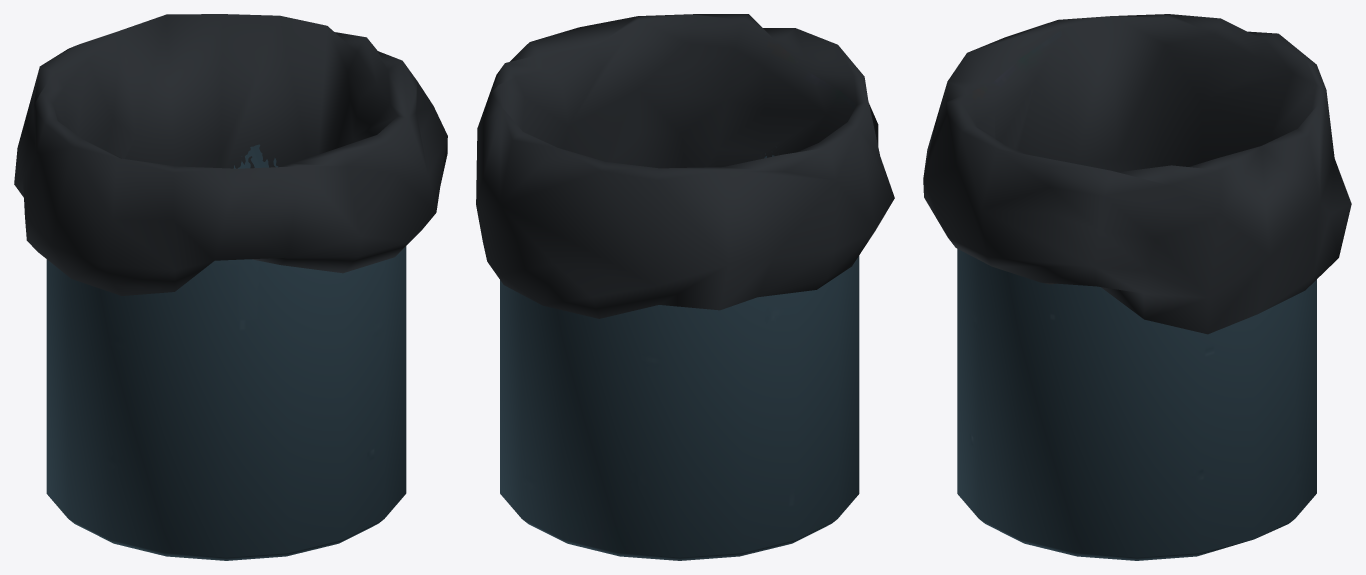
File: trash_can.glb
The picture shows the model from 3 angles, left to right: view 1: azimuth 30°, elevation 25°; view 2: azimuth 150°, elevation 25°; view 3: azimuth 270°, elevation 25°; orthographic projection.
Parts seen in each view (by area): view 1: Cylinder181__0; view 2: Cylinder181__0; view 3: Cylinder181__0.
Part boxes in pixels (bbox=[...]): Cylinder181__0: bbox=[14, 14, 447, 560]; Cylinder181__0: bbox=[476, 14, 894, 560]; Cylinder181__0: bbox=[923, 14, 1351, 560].
Size of the model in its own units: 0.7612 by 0.75 by 0.7309.
1 material, 1 textured.
